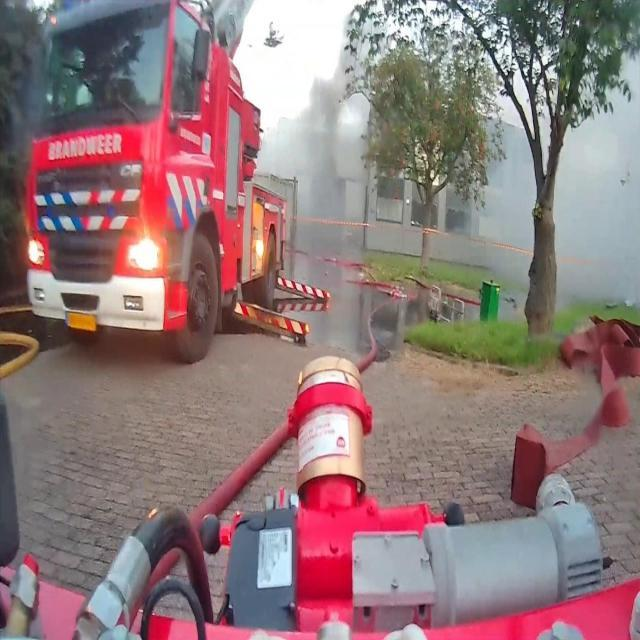Fire: (414, 134, 440, 188)
Smoke: (272, 13, 368, 257)
